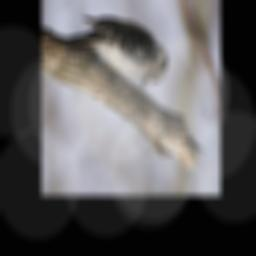Woodpecker: (64, 10, 175, 90)
